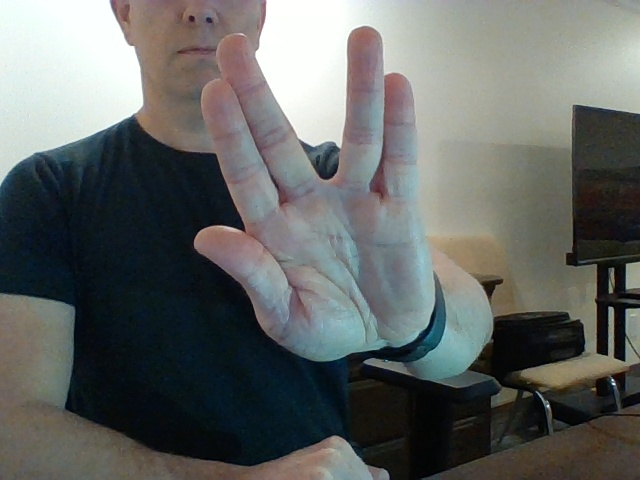LiveLong: (193, 25, 435, 362)
